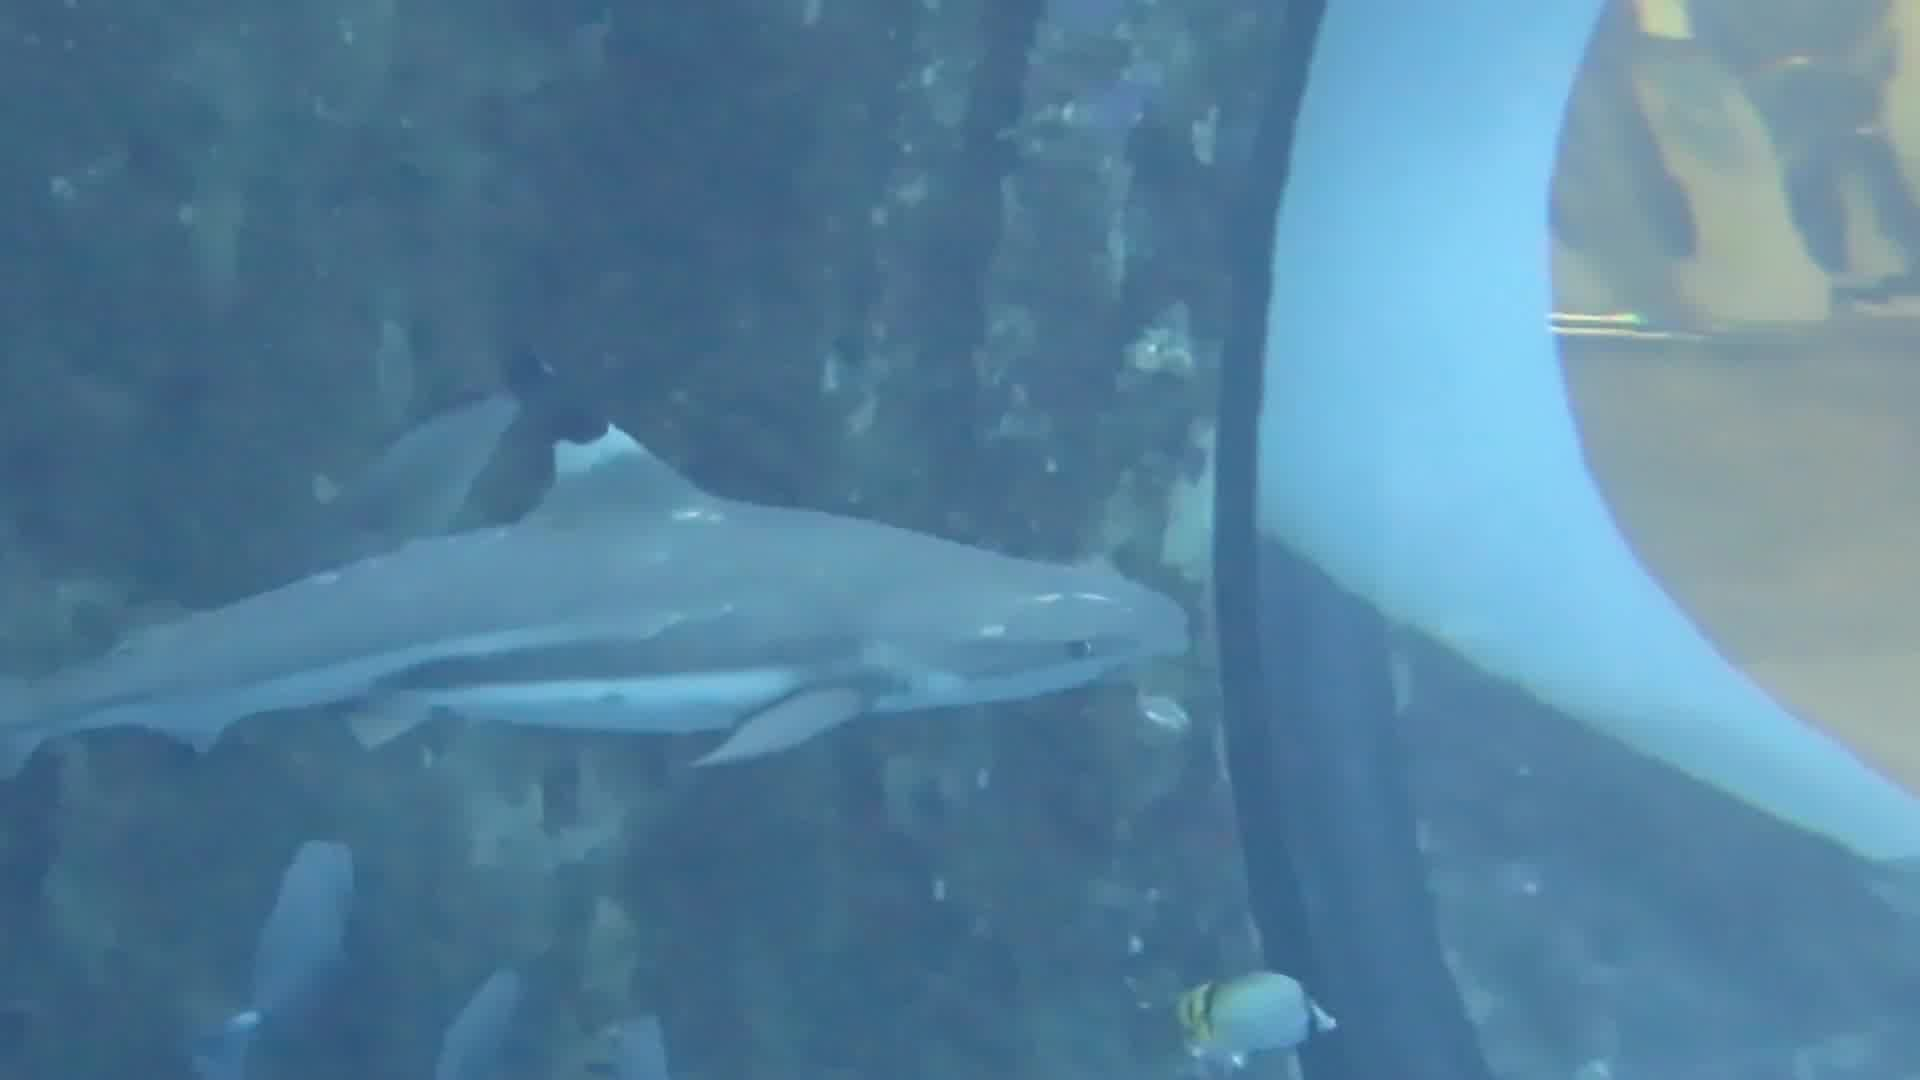Carcharhinus melanopterus: (1, 371, 1232, 872)
